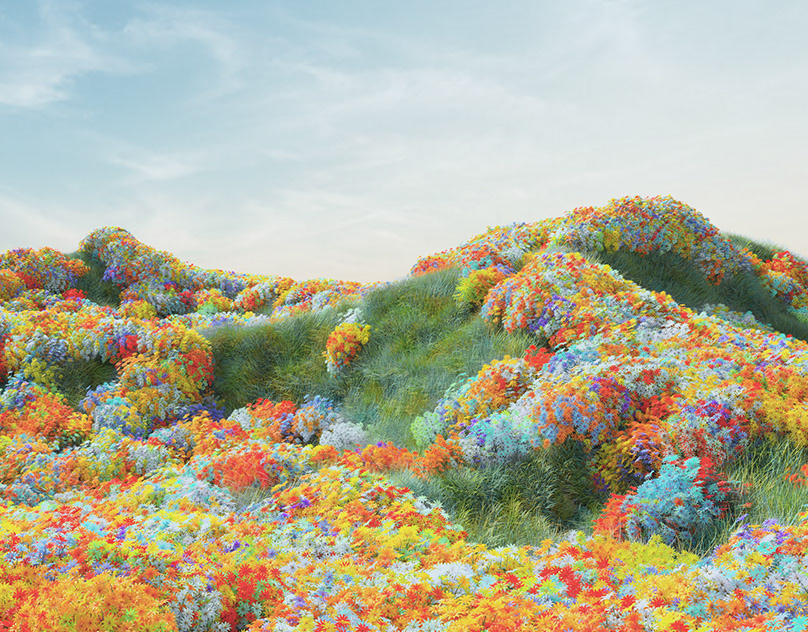not a gesture sign: (510, 376, 637, 446)
